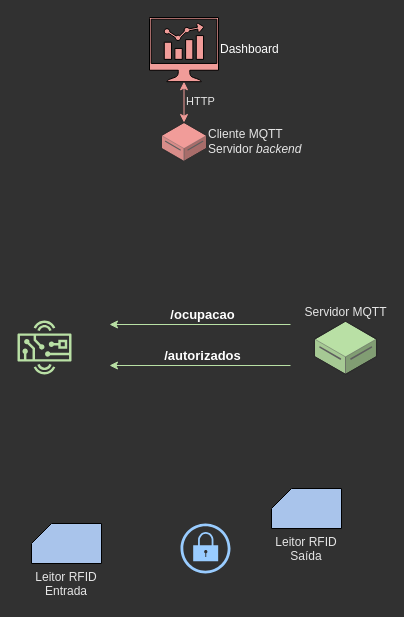
Some shapes in this 404 by 617 pixel diagram are drawn without their labels. The shapes that lost their labels are listed below. From the top down, each one's box as (x1, y1, x2, y2) in pixels, then its label:
(16, 320, 72, 374): ESP8266
(180, 522, 230, 574): Fechadura Elétrica
